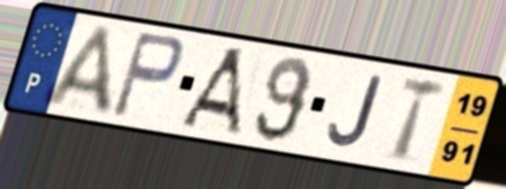9: (251, 54, 314, 146)
A: (38, 22, 117, 119), (176, 44, 248, 139)
J: (325, 73, 386, 151)
P: (107, 28, 187, 122)
T: (391, 73, 450, 165)
